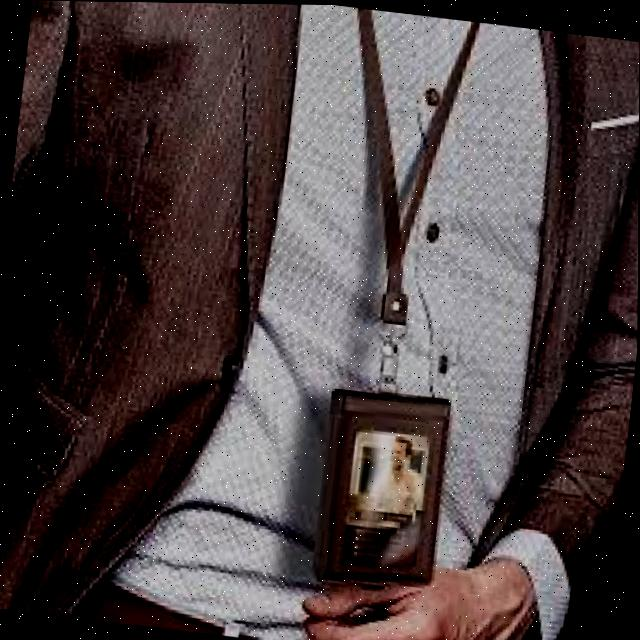id_card: (290, 5, 507, 596)
